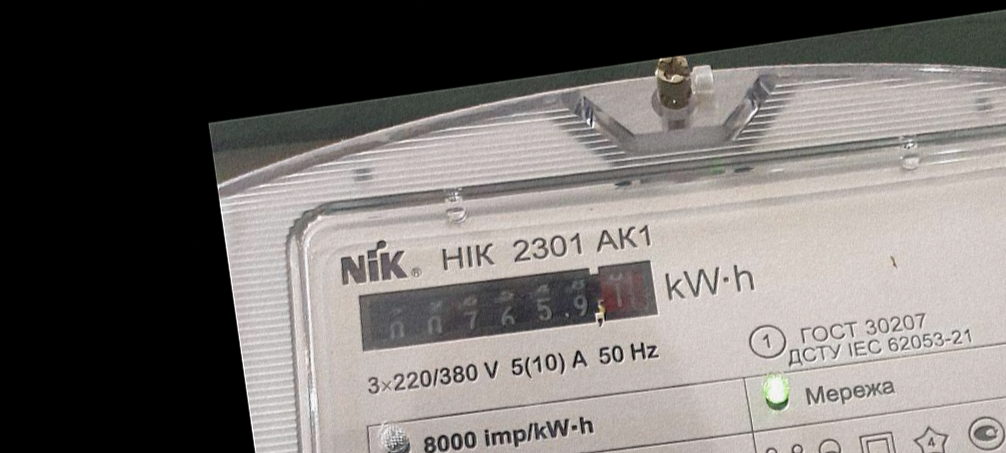0: (423, 311, 446, 338), (386, 315, 407, 344)
1: (610, 278, 628, 312)
5: (531, 293, 557, 323)
6: (496, 302, 518, 328)
7: (459, 307, 482, 334)
9: (569, 290, 591, 320)
screen: (343, 240, 671, 374)
